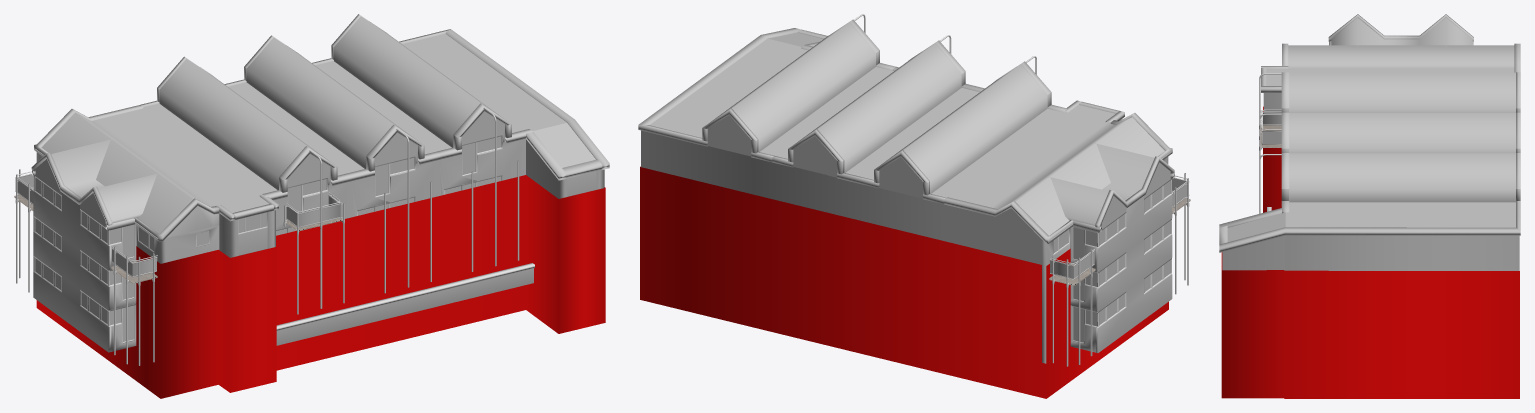
Rendered from mehrfamilienhaus_01.fbx.
3 views of the same model, side by side, from view 1: azimuth 30°, elevation 25°; view 2: azimuth 150°, elevation 25°; view 3: azimuth 270°, elevation 25° (orthographic). The views are drawn at different scales.
Parts seen in each view (by area): view 1: part1, colmesh, part2, part3; view 2: part1, colmesh, part2; view 3: part1, colmesh, part3.
Part boxes in pixels (left/top/right/bottom): part1: left=16, top=14, right=609, bottom=365; colmesh: left=36, top=175, right=605, bottom=398; part2: left=14, top=171, right=157, bottom=285; part3: left=283, top=192, right=344, bottom=234; part1: left=638, top=14, right=1188, bottom=366; colmesh: left=640, top=166, right=1168, bottom=398; part2: left=1049, top=175, right=1190, bottom=287; part1: left=1219, top=14, right=1520, bottom=270; colmesh: left=1221, top=106, right=1519, bottom=398; part3: left=1259, top=109, right=1281, bottom=150.
Size of the model in its own units: 3501 by 1624 by 2172.
